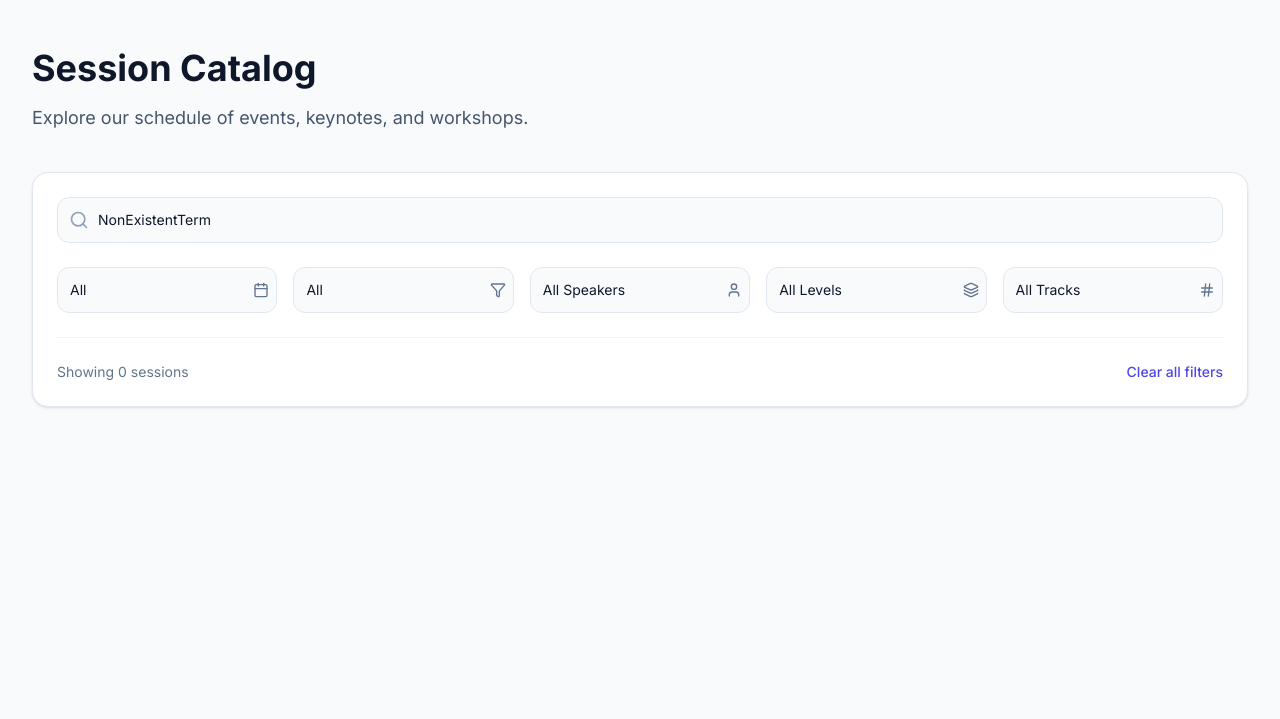
Test: Catalog Page › clears filters when clear button is clicked
Click the button "Clear all filters".
click(1175, 372)  # box [1127,362,1223,382]
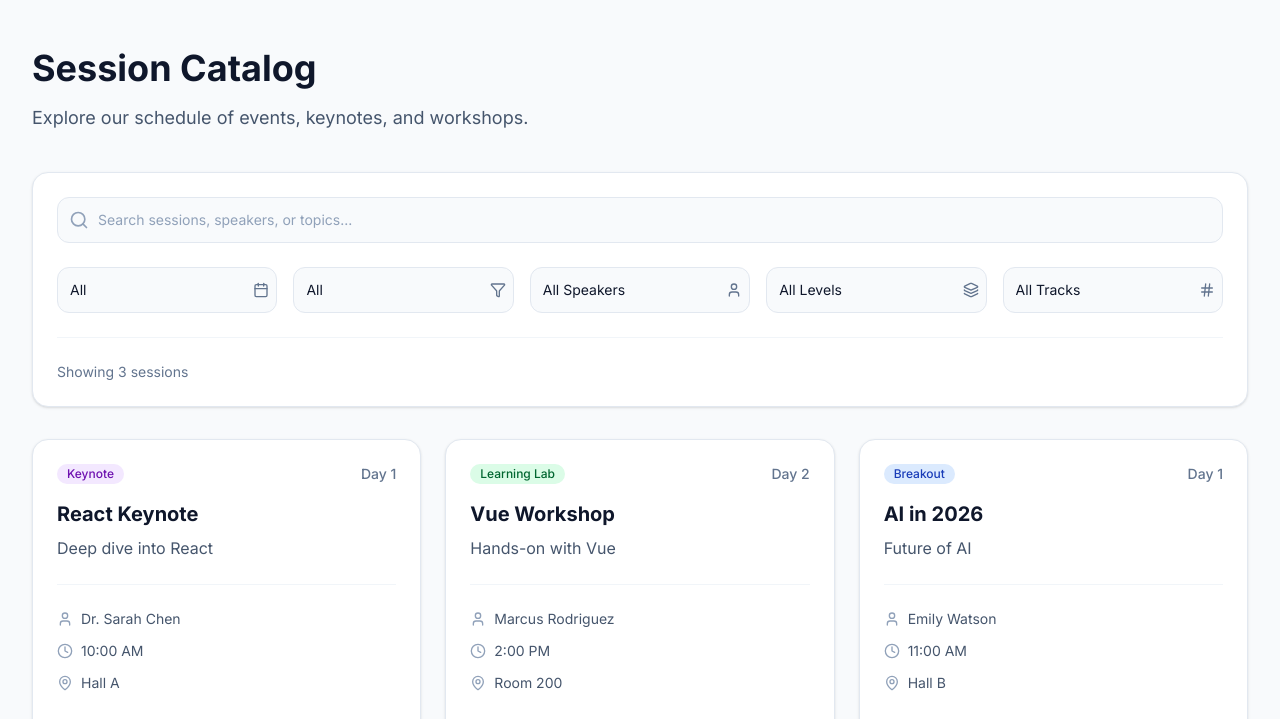
Check: the heading "React Keynote" is shown, box [57,502,198,526]
